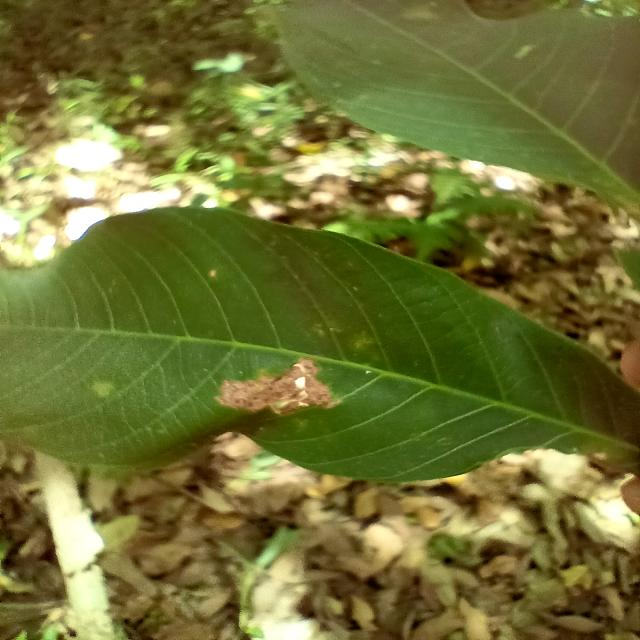Leaf-Blight: (216, 358, 331, 416)
